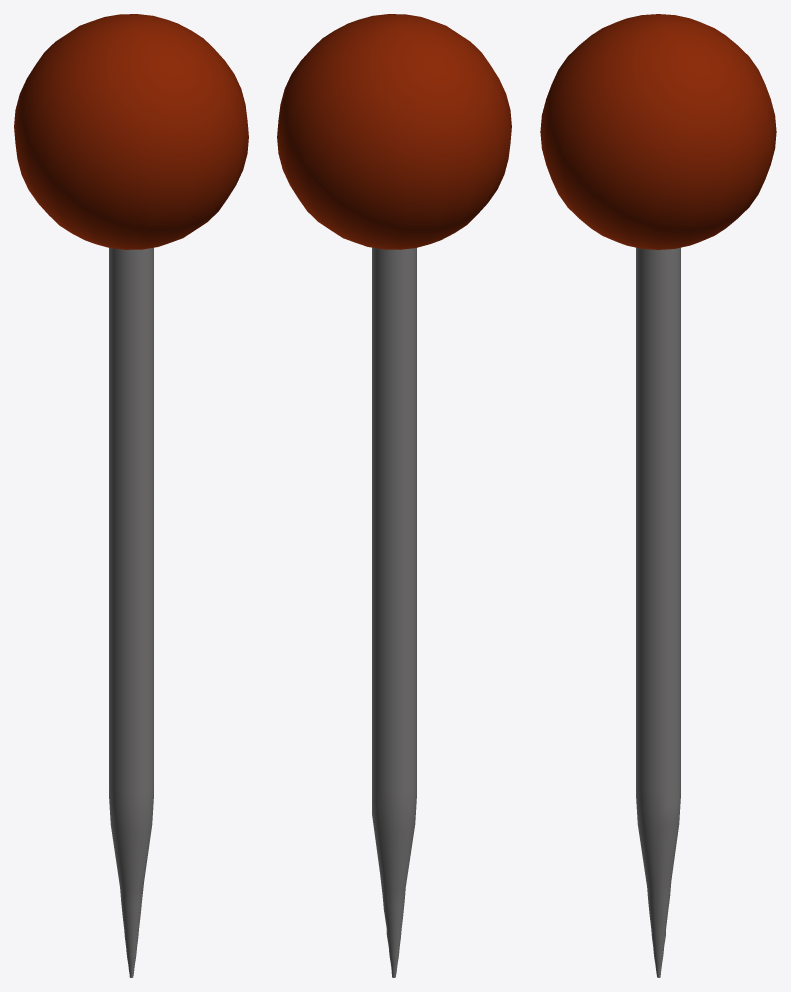
The model's file is 大头针.fbx.
3 views of the same model, side by side, from view 1: azimuth 30°, elevation 25°; view 2: azimuth 150°, elevation 25°; view 3: azimuth 270°, elevation 25° (orthographic).
Parts seen in each view (by area): view 1: pSphere1, pCylinder1; view 2: pSphere1, pCylinder1; view 3: pSphere1, pCylinder1.
Part boxes in pixels (x1,y1,x2,y2): pSphere1: [14, 14, 248, 249]; pCylinder1: [109, 247, 153, 977]; pSphere1: [277, 14, 511, 249]; pCylinder1: [372, 247, 416, 977]; pSphere1: [540, 14, 776, 249]; pCylinder1: [636, 247, 680, 977].
Size of the model in its own units: 2 by 8.9 by 2.
